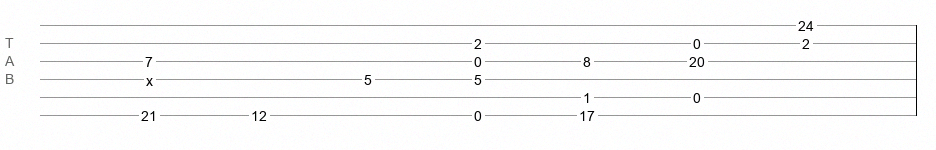0: (474, 108, 482, 118), (474, 54, 482, 64), (693, 36, 701, 46), (693, 90, 701, 100)
1: (583, 90, 591, 100)
12: (251, 108, 267, 118)
17: (579, 108, 595, 118)
2: (474, 36, 482, 46), (802, 36, 810, 46)
20: (689, 54, 705, 64)
21: (141, 108, 157, 118)
24: (798, 18, 814, 28)
5: (364, 72, 372, 82), (474, 72, 482, 82)
7: (145, 54, 153, 64)
8: (583, 54, 591, 64)
x: (146, 73, 153, 81)
